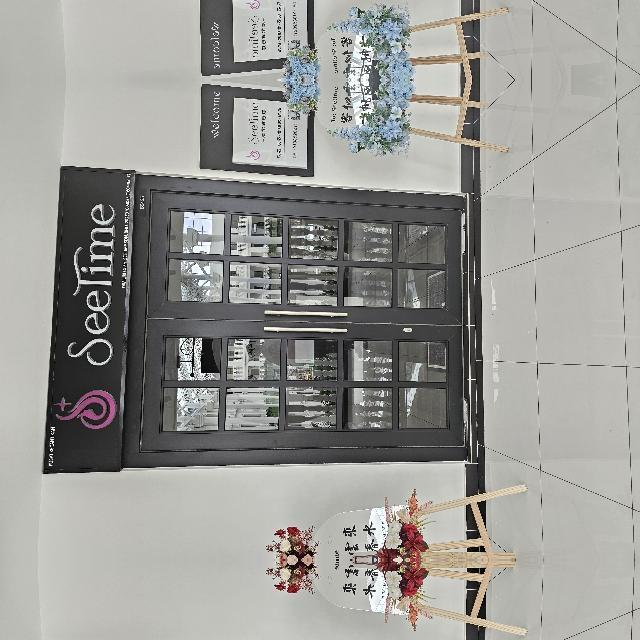door: (105, 217, 371, 548), (105, 572, 371, 640)
obstacle: (0, 390, 76, 608), (0, 512, 76, 640), (406, 482, 479, 590), (406, 530, 479, 638)
